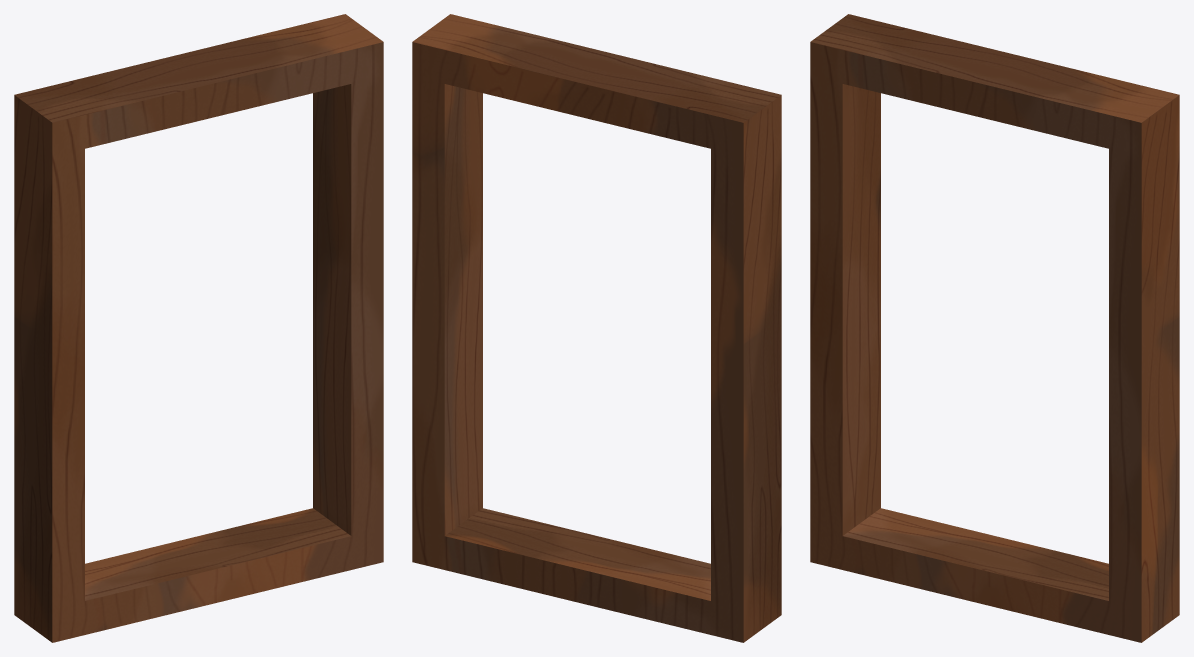
The model's file is Window Frame 2.fbx.
3 renders of one model, left to right at view 1: azimuth 30°, elevation 25°; view 2: azimuth 150°, elevation 25°; view 3: azimuth 330°, elevation 25°, orthographic.
Parts seen in each view (by area): view 1: Window Frame; view 2: Window Frame; view 3: Window Frame.
Boxes of the visible parts, x1,y1,x2,y2 form: Window Frame: [14, 14, 383, 642]; Window Frame: [412, 14, 781, 642]; Window Frame: [810, 14, 1179, 642].
Size of the model in its own units: 40 by 60 by 8.
